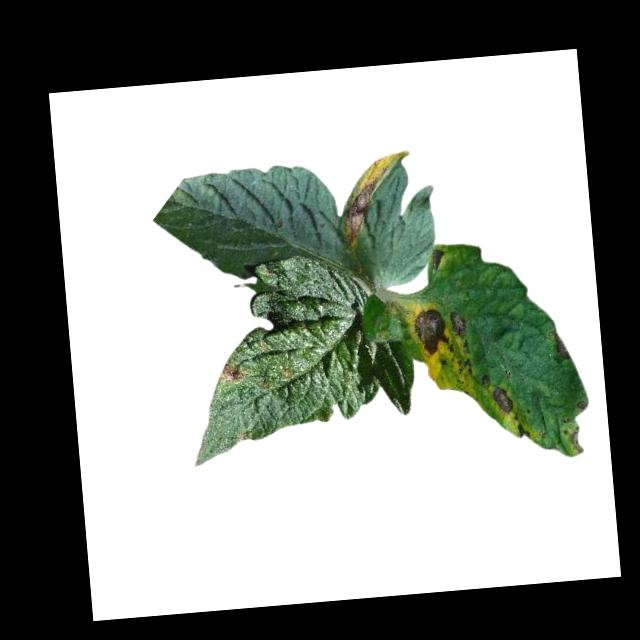Early_blight: (337, 146, 418, 249), (410, 306, 452, 358), (550, 324, 576, 368), (490, 385, 521, 416), (450, 312, 474, 344), (221, 358, 249, 382), (569, 422, 585, 455), (430, 246, 446, 270), (515, 422, 535, 440)
